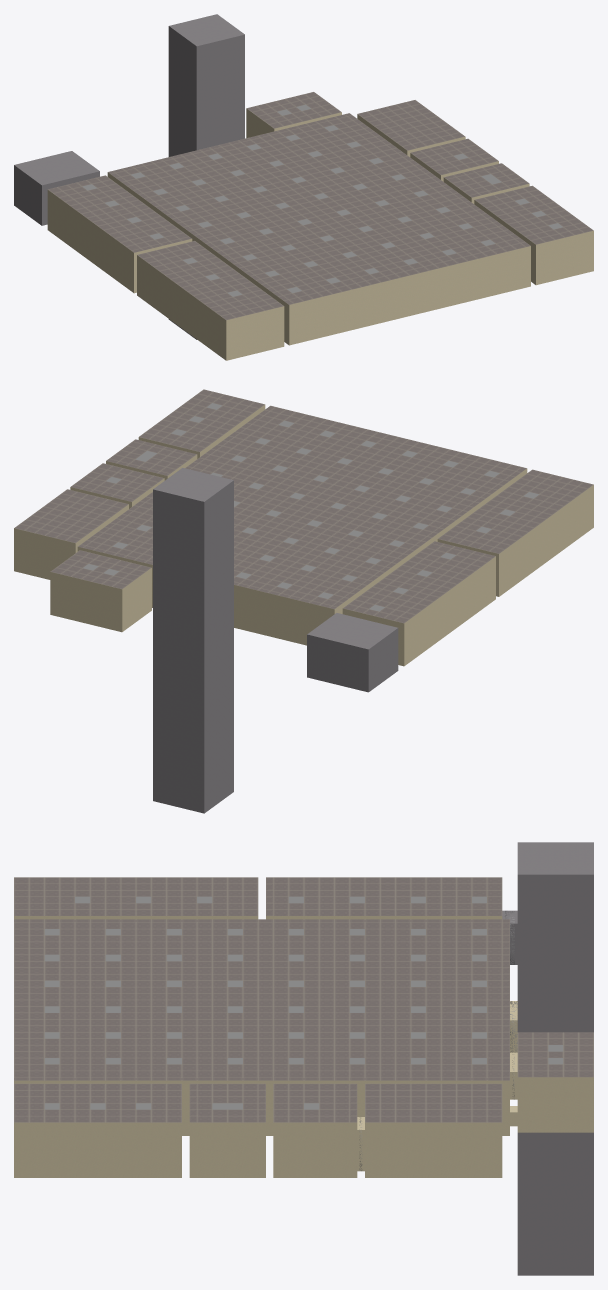
Rendered from mapa.fbx.
3 renders of one model, top to bottom at view 1: azimuth 30°, elevation 25°; view 2: azimuth 150°, elevation 25°; view 3: azimuth 270°, elevation 25°, orthographic. The views are drawn at different scales.
Parts seen in each view (by area): view 1: Cube; view 2: Cube; view 3: Cube.
Part boxes in pixels (x1,y1,x2,y2): Cube: [14, 14, 593, 360]; Cube: [14, 389, 593, 813]; Cube: [14, 842, 593, 1275].
Bounding box in the file's own units: 3800 × 2900 × 3800.
